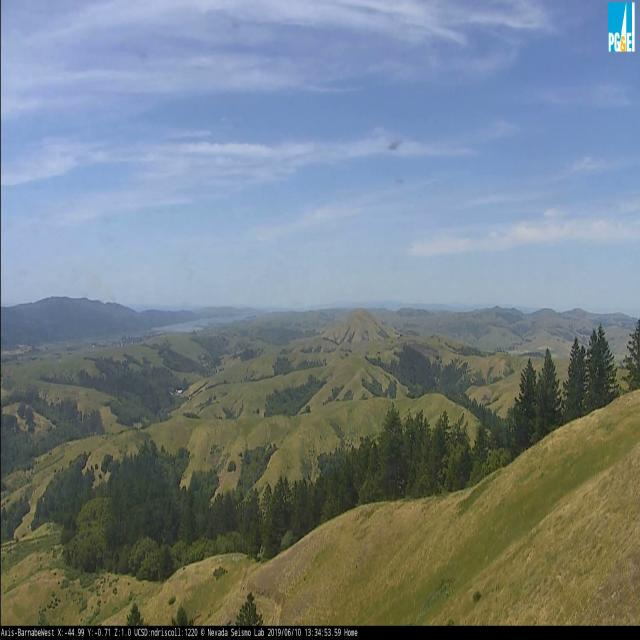smoke: (77, 271, 116, 304)
